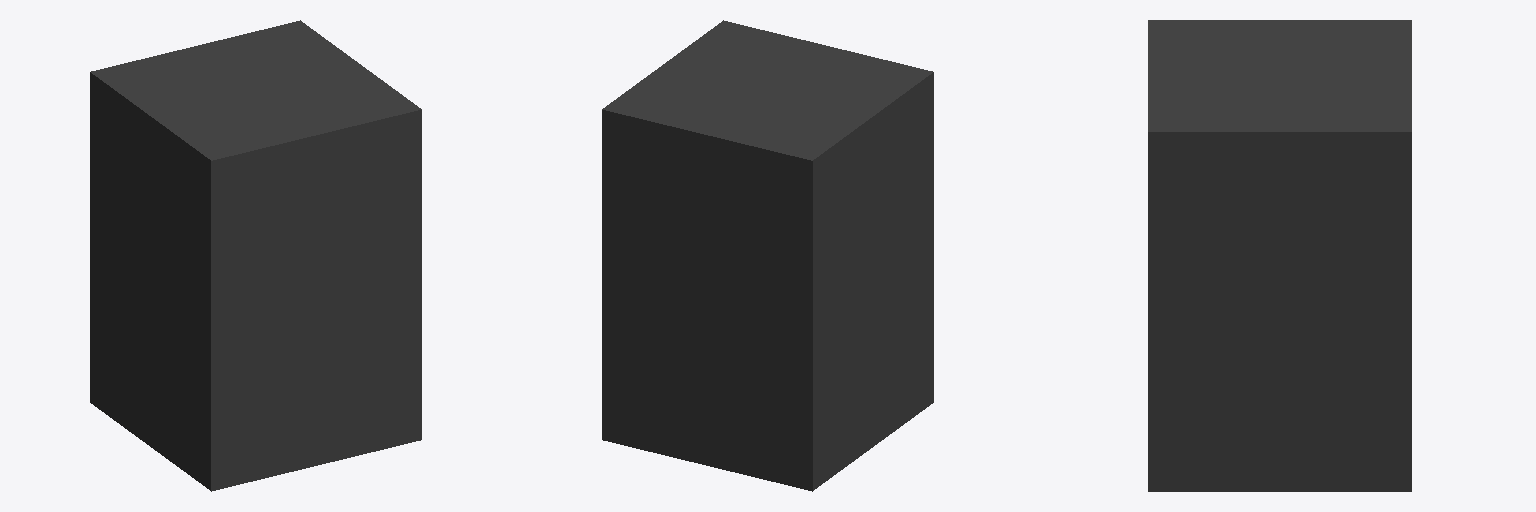
The robot description file, URDF, robot "monoped":
<robot name="monoped">
    <link name="base">
	    <visual>
	      <geometry>
	        <box size="0.20 0.20 0.30"/>
	      </geometry>
	      <material name="blue">
	        <color rgba="0.3 0.3 0.3 1.0"/>
	      </material>
	    </visual>        
    </link>
    
    <link name="hipassembly">
	    <visual>
	      <origin rpy="0.0 0.0 0.0" xyz="0.0 0.0 0.0"/>
	      <geometry>
	        <mesh filename="package://xpp_hyq/meshes/leg/hipassembly.dae" scale="1 1 1"/>
	      </geometry>
	      <material name="white"/>
	    </visual>        
    </link>
    <link name="upperleg">
	    <visual>
	      <origin rpy="0.0 0.0 0.0" xyz="0.0 0.0 0.0"/>
	      <geometry>
	        <mesh filename="package://xpp_hyq/meshes/leg/upperleg.dae" scale="1 1 1"/>
	      </geometry>
	      <material name="blue"/>
	    </visual>
    </link>
    <link name="lowerleg">
	    <visual>
	      <geometry>
	        <mesh filename="package://xpp_hyq/meshes/leg/lowerleg.dae" scale="1 1 1"/>
	      </geometry>
	      <material name="blue"/>
	    </visual>        
    </link>
    
    <joint name="haa_joint" type="revolute">
        <origin xyz="0.0 0.0 -0.15000" rpy="2.0344439357957036 1.5707962290814481 -1.1071487177940917"/>
        <parent link="base"/>
        <child  link="hipassembly"/>
        <limit effort="200" lower="-1.6" upper="1.6" velocity="1.0"/>
        <axis xyz="0 0 1"/>
    </joint>
    <joint name="hfe_joint" type="revolute">
        <origin xyz="0.08000 0.00000 0.00000" rpy="1.5707963705062866 -0.0 0.0"/>
        <parent link="hipassembly"/>
        <child  link="upperleg"/>
        <limit effort="200" lower="-1.6" upper="1.6" velocity="1.0"/>
        <axis xyz="0 0 1"/>
    </joint>
    <joint name="kfe_joint" type="revolute">
        <origin xyz="0.35000 0.00000 0.00000" rpy="0.0 0.0 0.0"/>
        <parent link="upperleg"/>
        <child  link="lowerleg"/>
        <limit effort="200" lower="-1.6" upper="1.6" velocity="1.0"/>
        <axis xyz="0 0 1"/>
    </joint>
</robot>

--- Render facts (derived) ---
Views: 3 orthographic renders of the robot side by side, from view 1: azimuth 30°, elevation 25°; view 2: azimuth 150°, elevation 25°; view 3: azimuth 270°, elevation 25°.
Model monoped with 4 links and 3 joints (3 revolute), rooted at base, posed all joints at 0.
Links seen in each view (by area): view 1: base; view 2: base; view 3: base.
Link boxes in pixels (<box>): base: <box>90,20,421,491</box>; base: <box>602,20,933,491</box>; base: <box>1148,20,1411,491</box>.
Bounding box of the posed robot: 0.2 × 0.2 × 0.3 m (x, y, z).
Meshes: 3 distinct files referenced, 0 mesh visuals loaded (none loaded); not drawn: 3 (reference not matched to a file when rendering).